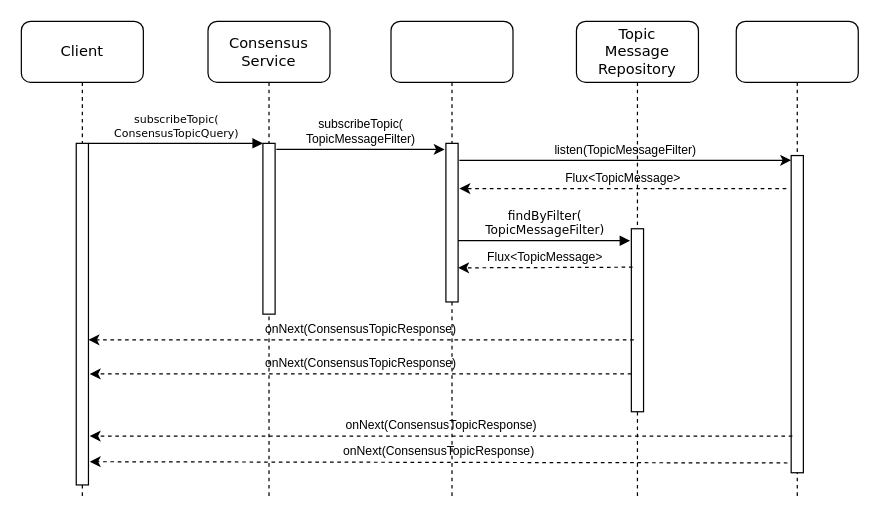
Some shapes in this 880 by 519 pixel diagram are drawn without their labels. The box of each missing label's shape, as (x1, y1, x2, y2) in pixels:
Topic Listener: (735, 20, 858, 497)
Topic Message Service: (390, 20, 513, 497)
